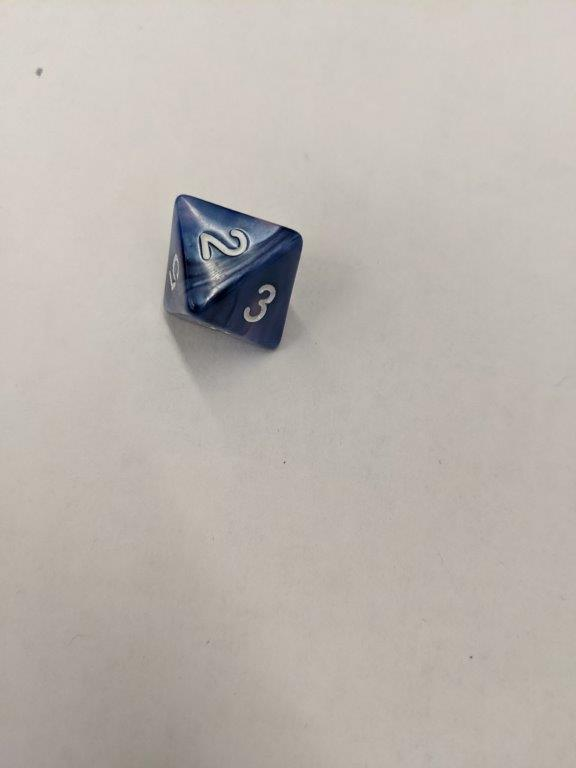d8-2: (157, 193, 306, 352)
